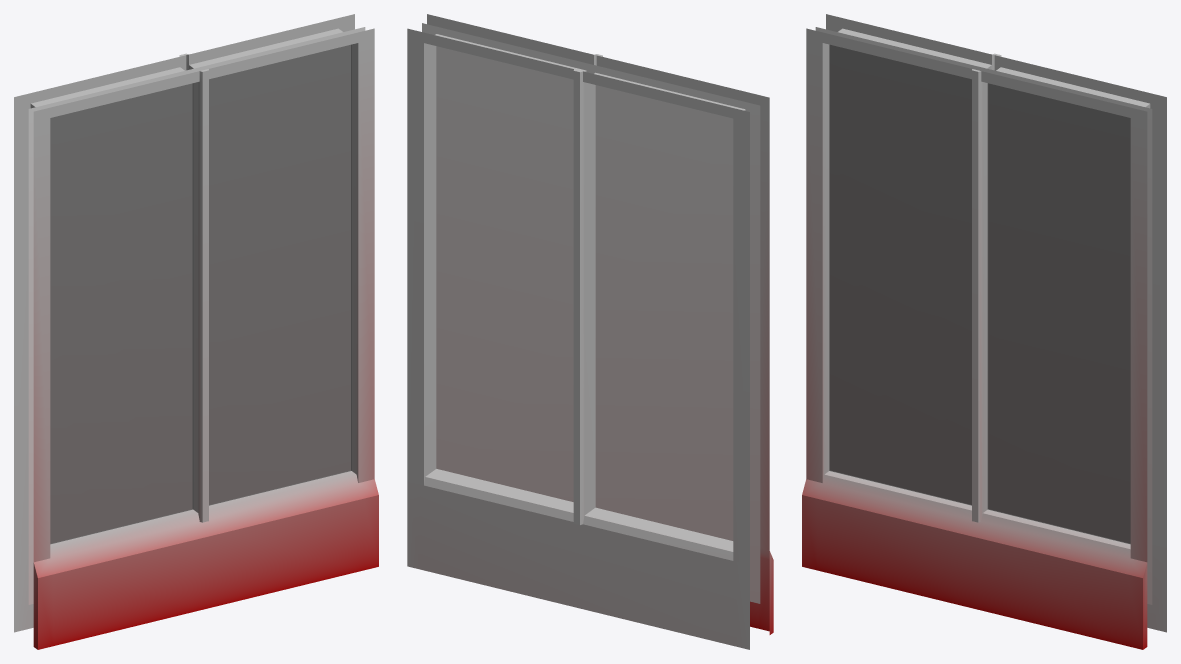
File: Metal_FirstFloor_Window.gltf
3 renders of one model, left to right at view 1: azimuth 30°, elevation 25°; view 2: azimuth 150°, elevation 25°; view 3: azimuth 330°, elevation 25°, orthographic.
Parts seen in each view (by area): view 1: Metal_FirstFloor_Window; view 2: Metal_FirstFloor_Window; view 3: Metal_FirstFloor_Window.
Boxes of the visible parts, x1,y1,x2,y2 form: Metal_FirstFloor_Window: (14, 14, 378, 649); Metal_FirstFloor_Window: (407, 14, 773, 649); Metal_FirstFloor_Window: (802, 14, 1166, 649).
Size of what is drawn, in the model's own units: 2 by 3 by 0.2588.
